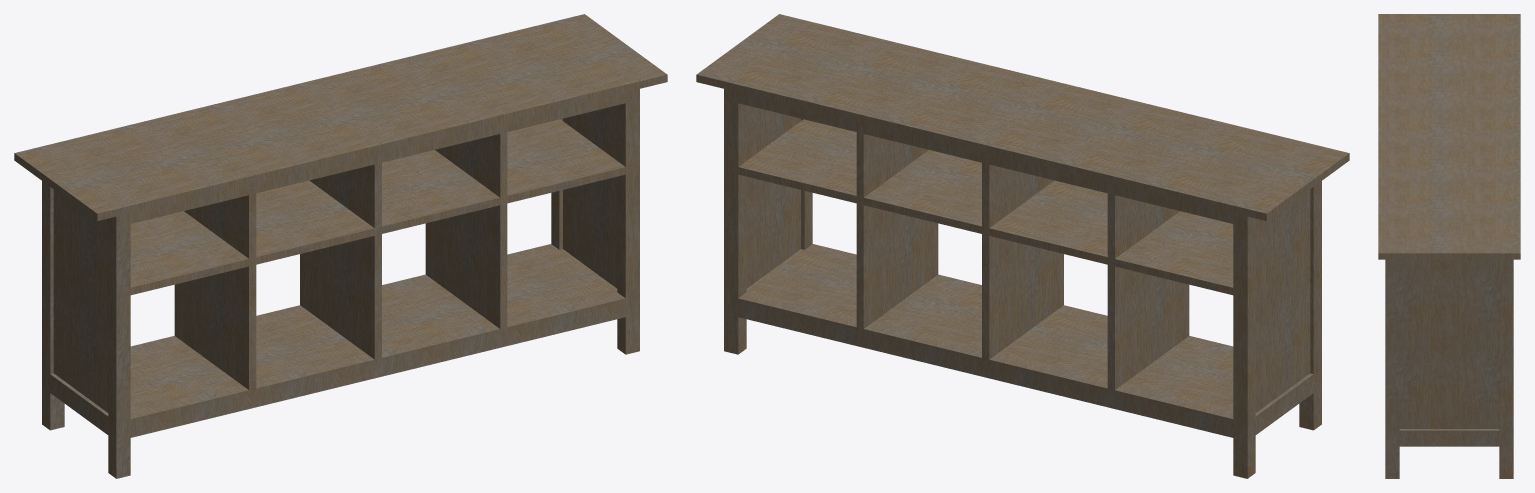
The picture shows the model from 3 angles, left to right: view 1: azimuth 30°, elevation 25°; view 2: azimuth 150°, elevation 25°; view 3: azimuth 270°, elevation 25°; orthographic projection. The views are drawn at different scales.
Visible parts, largest first — view 1: Mesh1 IKEA_HEMNES_sofa_table1 Model; view 2: Mesh1 IKEA_HEMNES_sofa_table1 Model; view 3: Mesh1 IKEA_HEMNES_sofa_table1 Model.
Boxes of the visible parts, x1,y1,x2,y2 form: Mesh1 IKEA_HEMNES_sofa_table1 Model: (14, 14, 667, 478); Mesh1 IKEA_HEMNES_sofa_table1 Model: (696, 14, 1349, 478); Mesh1 IKEA_HEMNES_sofa_table1 Model: (1378, 14, 1520, 478).
Bounding box in the file's own units: 1.59 × 0.73 × 0.4.
Materials: 1 (1 with a texture image).
